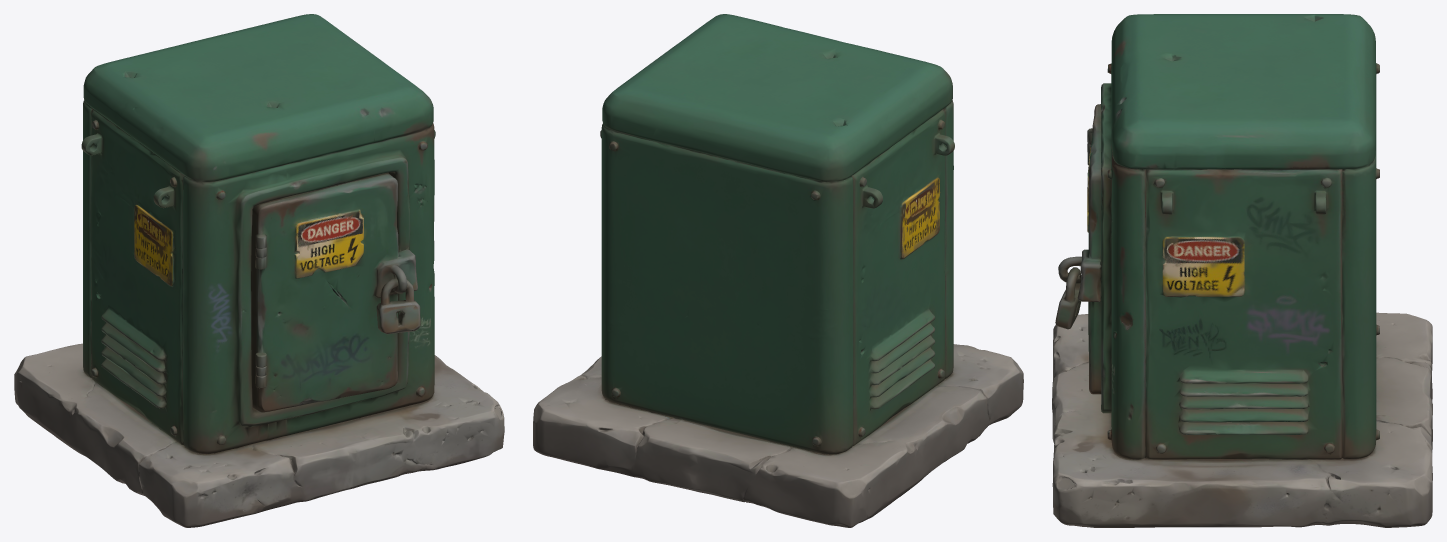
Rendered from transformer_box.glb.
The picture shows the model from 3 angles, left to right: view 1: azimuth 30°, elevation 25°; view 2: azimuth 150°, elevation 25°; view 3: azimuth 270°, elevation 25°; orthographic projection. The views are drawn at different scales.
Visible parts, largest first — view 1: tripo_node_bbadfd43-c360-42b7-8444-92f3d2db09f7; view 2: tripo_node_bbadfd43-c360-42b7-8444-92f3d2db09f7; view 3: tripo_node_bbadfd43-c360-42b7-8444-92f3d2db09f7.
Part boxes in pixels (x1,y1,x2,y2): tripo_node_bbadfd43-c360-42b7-8444-92f3d2db09f7: (14, 14, 504, 527); tripo_node_bbadfd43-c360-42b7-8444-92f3d2db09f7: (533, 14, 1023, 527); tripo_node_bbadfd43-c360-42b7-8444-92f3d2db09f7: (1052, 14, 1432, 527).
Bounding box in the file's own units: 0.9566 × 0.9804 × 0.8945.
1 material, 1 textured.
